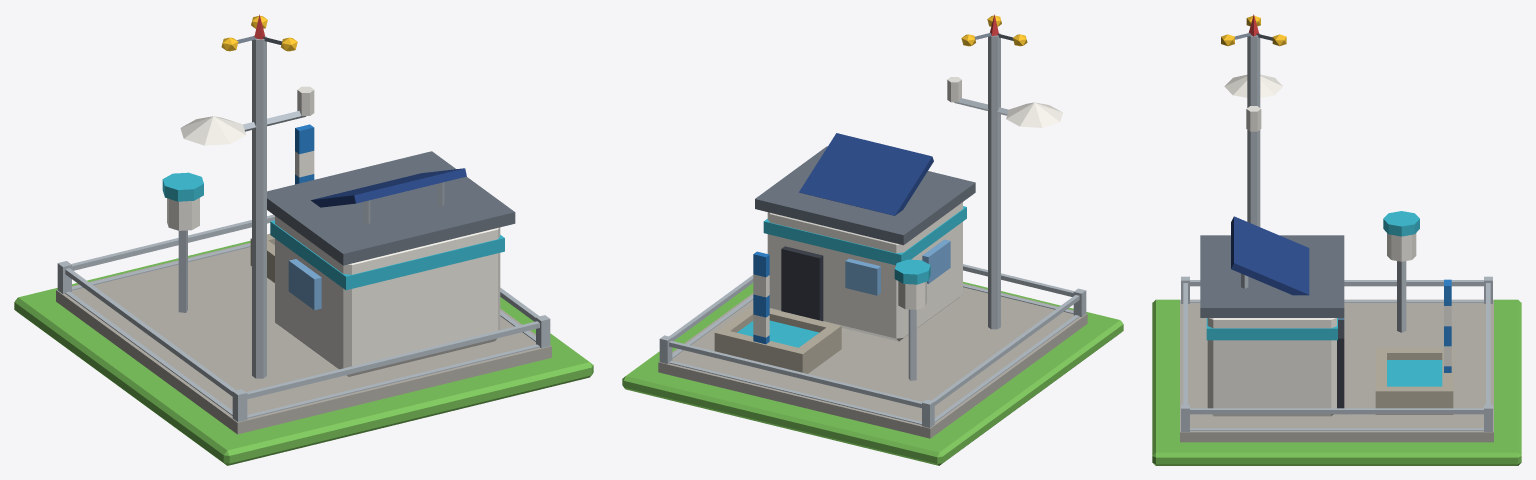
The model's file is kit-cidade-estacao-monitoramento.glb.
3 renders of one model, left to right at view 1: azimuth 30°, elevation 25°; view 2: azimuth 150°, elevation 25°; view 3: azimuth 270°, elevation 25°, orthographic. The views are drawn at different scales.
Parts seen in each view (by area): view 1: corpo; view 2: corpo; view 3: corpo.
Part boxes in pixels (x1=…): corpo: x1=14, y1=14, x2=593, y2=465; corpo: x1=622, y1=14, x2=1123, y2=465; corpo: x1=1152, y1=14, x2=1521, y2=465.
Size of the model in its own units: 2 by 2.01 by 2.
